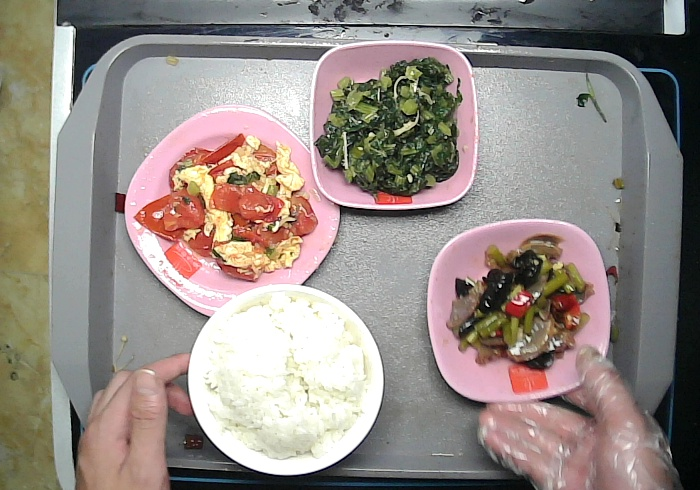SHKJ-Fan_Wan: (188, 282, 385, 474)
SHKJ-Fen_Se_Cai_Die: (426, 219, 610, 406)
SHKJ-Fen_Se_Si_Fang_Cai_Die: (124, 104, 340, 318)
SHKJ-Fen_Se_Xiao_Fang_Die: (309, 37, 479, 210)
